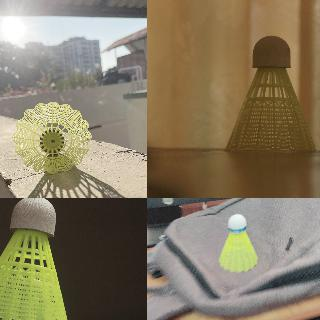shuttlecock: (226, 36, 316, 150), (0, 198, 71, 319), (12, 101, 92, 173), (216, 213, 258, 271)
